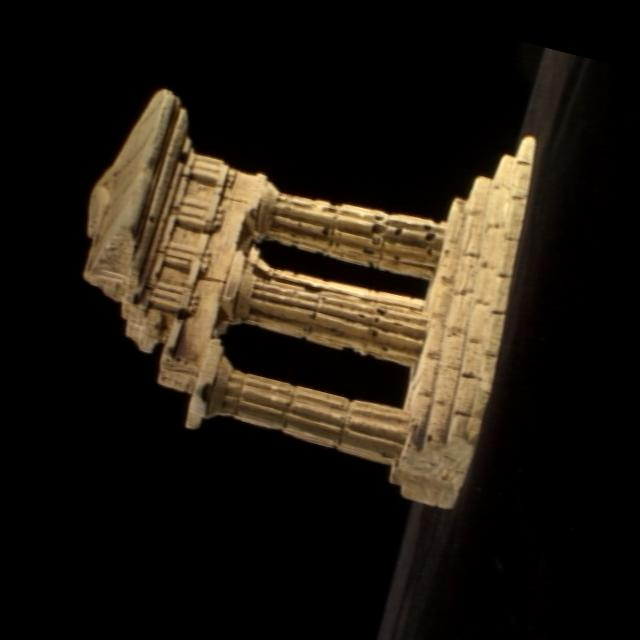Instance-Segmentation: (82, 88, 533, 506)
